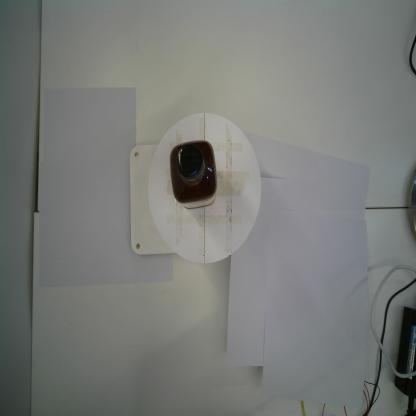Seasoner: (168, 136, 220, 212)
